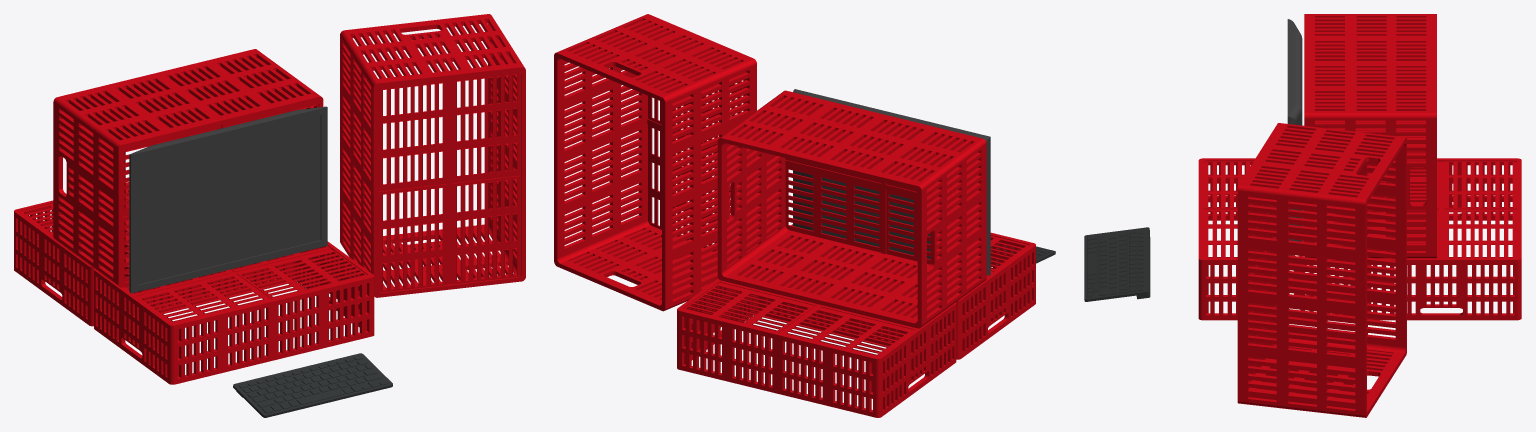
The model's file is tv-franco-opt.glb.
3 renders of one model, left to right at view 1: azimuth 30°, elevation 25°; view 2: azimuth 150°, elevation 25°; view 3: azimuth 270°, elevation 25°, orthographic. The views are drawn at different scales.
Visible parts, largest first — view 1: *2, Opaque(64,64,64), Opaque(49,52,52); view 2: *2, Opaque(64,64,64); view 3: *2, Opaque(49,52,52), Opaque(64,64,64).
Part boxes in pixels (x1=…): *2: x1=14, y1=14, x2=525, y2=384; Opaque(64,64,64): x1=129, y1=106, x2=327, y2=293; Opaque(49,52,52): x1=233, y1=353, x2=392, y2=417; *2: x1=554, y1=14, x2=1035, y2=417; Opaque(64,64,64): x1=793, y1=89, x2=990, y2=275; *2: x1=1198, y1=14, x2=1521, y2=417; Opaque(49,52,52): x1=1084, y1=227, x2=1150, y2=301; Opaque(64,64,64): x1=1287, y1=19, x2=1302, y2=255.
Size of the model in its own units: 0.8874 by 0.4505 by 0.8179.
